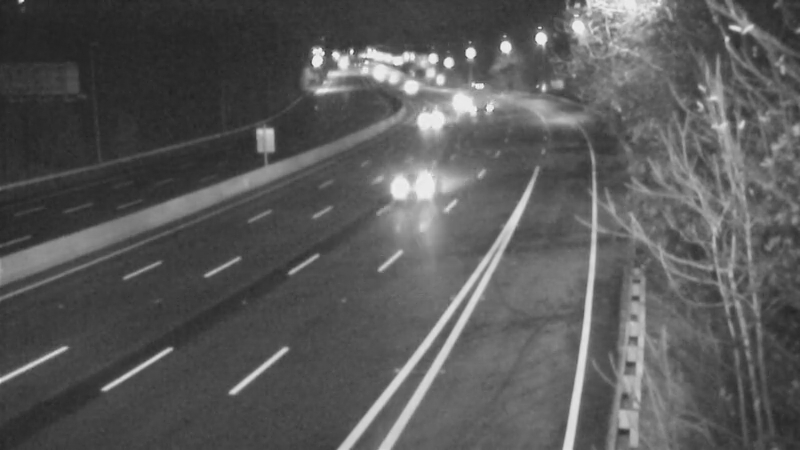vehicle: (363, 143, 443, 223), (383, 65, 433, 115), (448, 78, 498, 128), (428, 73, 478, 123), (400, 96, 450, 146)
